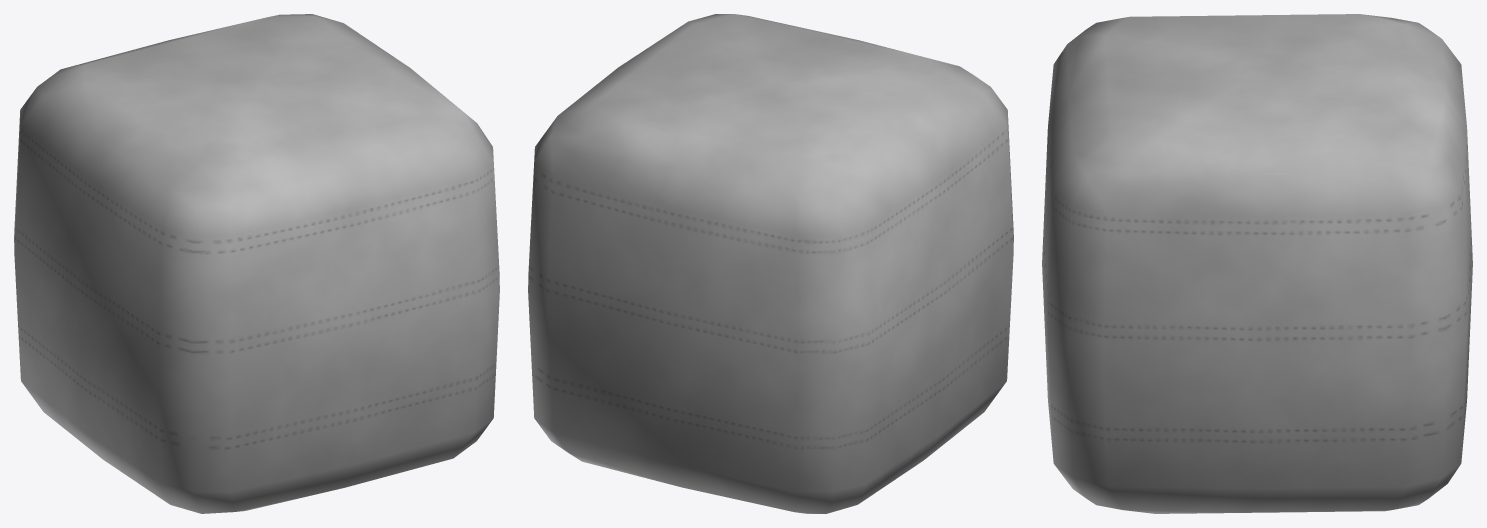
Rendered from RightLowerArm_C1.fbx.
The picture shows the model from 3 angles, left to right: view 1: azimuth 30°, elevation 25°; view 2: azimuth 150°, elevation 25°; view 3: azimuth 270°, elevation 25°; orthographic projection. The views are drawn at different scales.
Parts seen in each view (by area): view 1: Civ_CamisaCuadros_RightLowerArm_C1; view 2: Civ_CamisaCuadros_RightLowerArm_C1; view 3: Civ_CamisaCuadros_RightLowerArm_C1.
Boxes of the visible parts, <box> form: Civ_CamisaCuadros_RightLowerArm_C1: <box>14,14,499,513</box>; Civ_CamisaCuadros_RightLowerArm_C1: <box>528,14,1013,513</box>; Civ_CamisaCuadros_RightLowerArm_C1: <box>1042,14,1472,513</box>.
Bounding box in the file's own units: 1.22 × 1.19 × 1.22.
